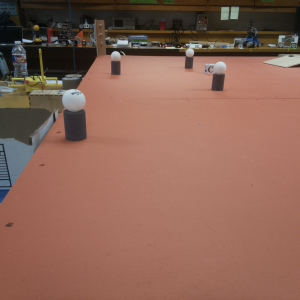obstacle: (62, 92, 88, 140), (214, 61, 224, 91), (110, 51, 121, 75), (184, 48, 194, 70)
slope: (268, 54, 300, 69)
